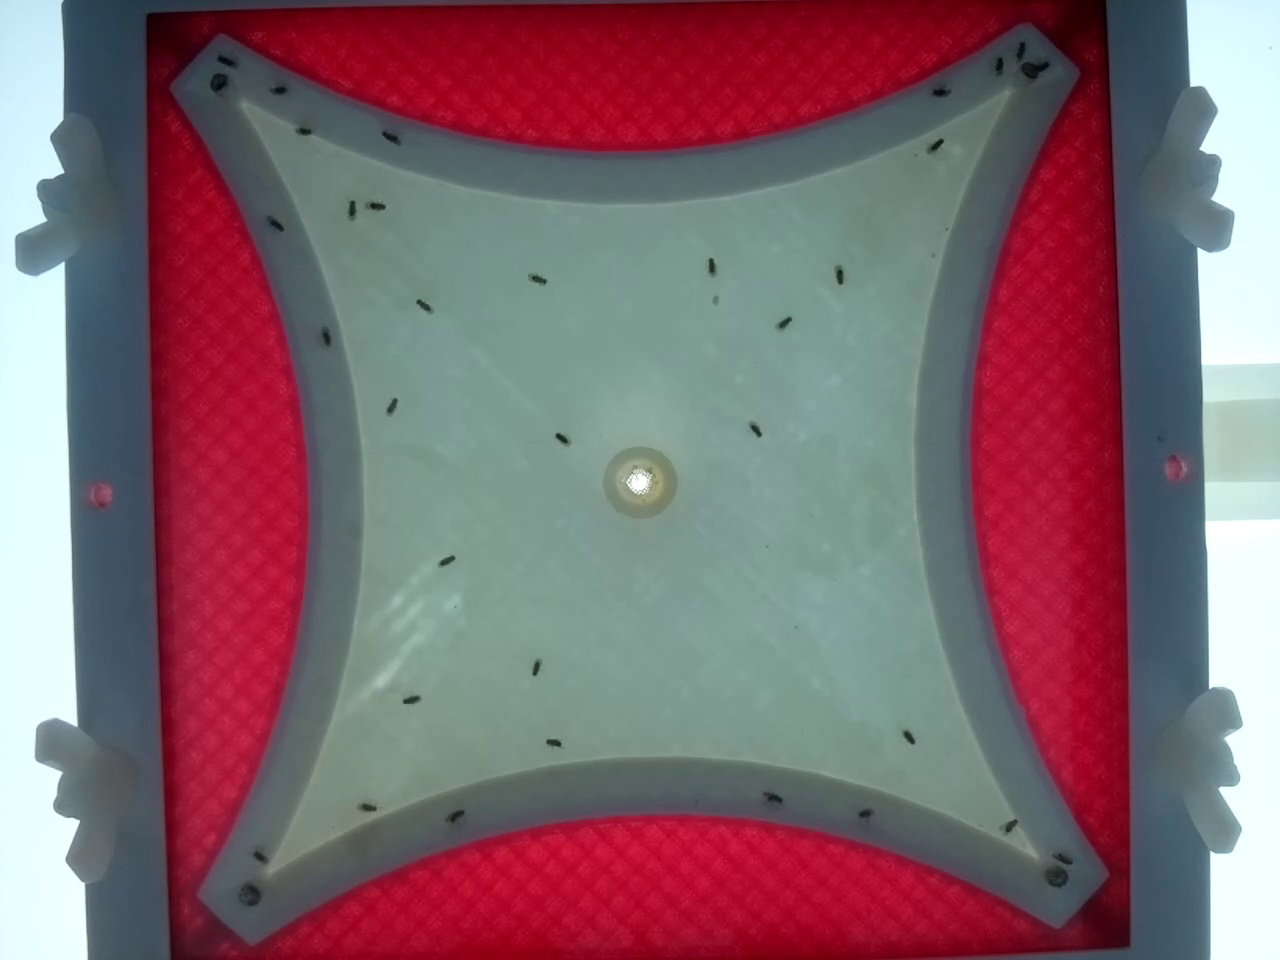fly: (339, 196, 364, 221), (362, 193, 387, 218), (374, 123, 399, 148), (269, 78, 294, 103), (925, 79, 950, 104), (291, 117, 316, 142), (525, 266, 550, 291), (262, 211, 287, 236), (771, 310, 796, 335), (922, 133, 947, 158), (379, 393, 404, 418), (549, 426, 574, 451), (895, 724, 920, 749), (354, 794, 379, 819), (399, 686, 424, 711), (540, 730, 565, 755), (997, 813, 1022, 838), (246, 844, 271, 869), (1051, 846, 1076, 871), (851, 800, 876, 825), (1090, 874, 1115, 899), (761, 785, 786, 810), (213, 50, 238, 75), (986, 52, 1011, 77), (699, 255, 724, 280), (827, 262, 852, 287), (411, 293, 436, 318), (1008, 37, 1033, 62), (1030, 54, 1055, 79), (315, 332, 340, 357), (742, 416, 767, 441), (433, 548, 458, 573), (523, 655, 548, 680), (444, 801, 469, 826), (239, 876, 264, 901)
